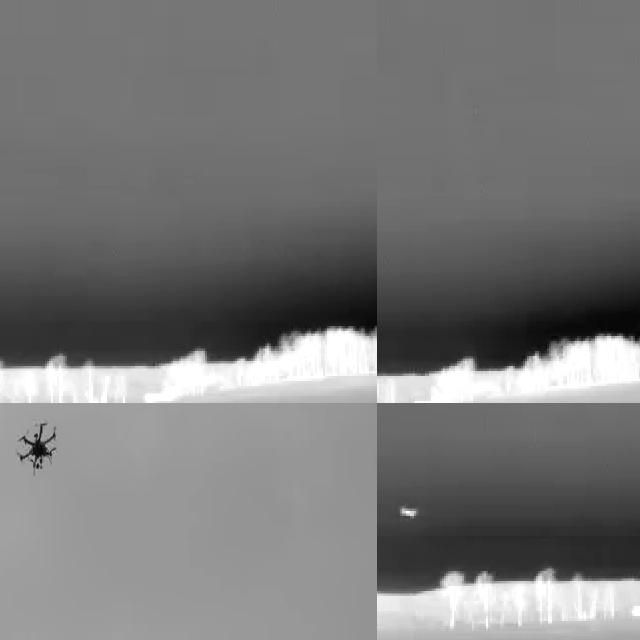1: (388, 498, 428, 534)
drone: (10, 414, 64, 476)
